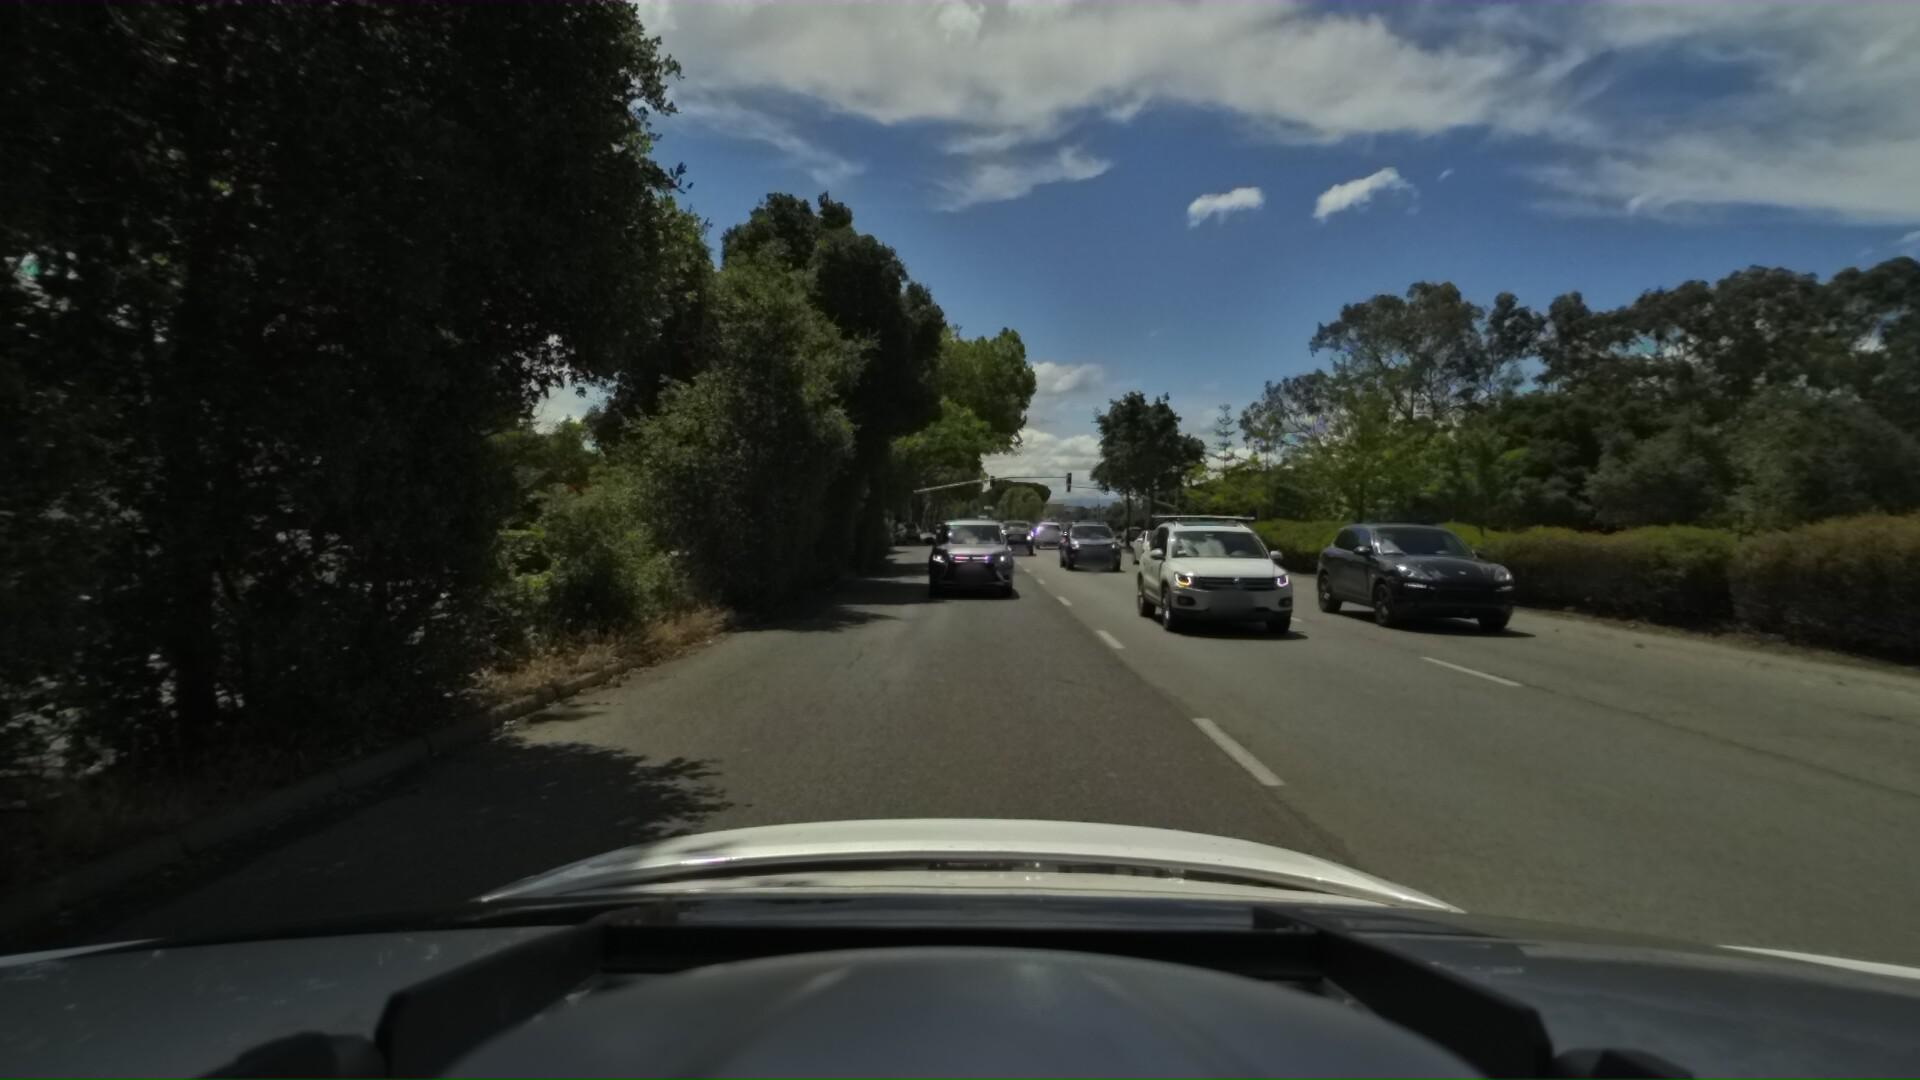car: (1280, 516, 1489, 629), (1120, 506, 1282, 633), (922, 513, 1019, 603), (1052, 517, 1116, 571), (1120, 524, 1189, 568), (997, 514, 1040, 554), (1033, 518, 1064, 549), (922, 516, 955, 541), (1027, 518, 1052, 543), (894, 518, 920, 541)
